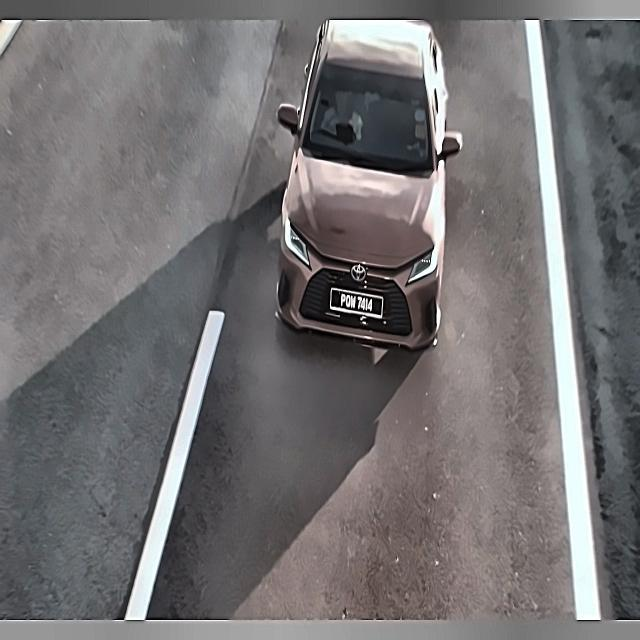car: (324, 280, 391, 326)
